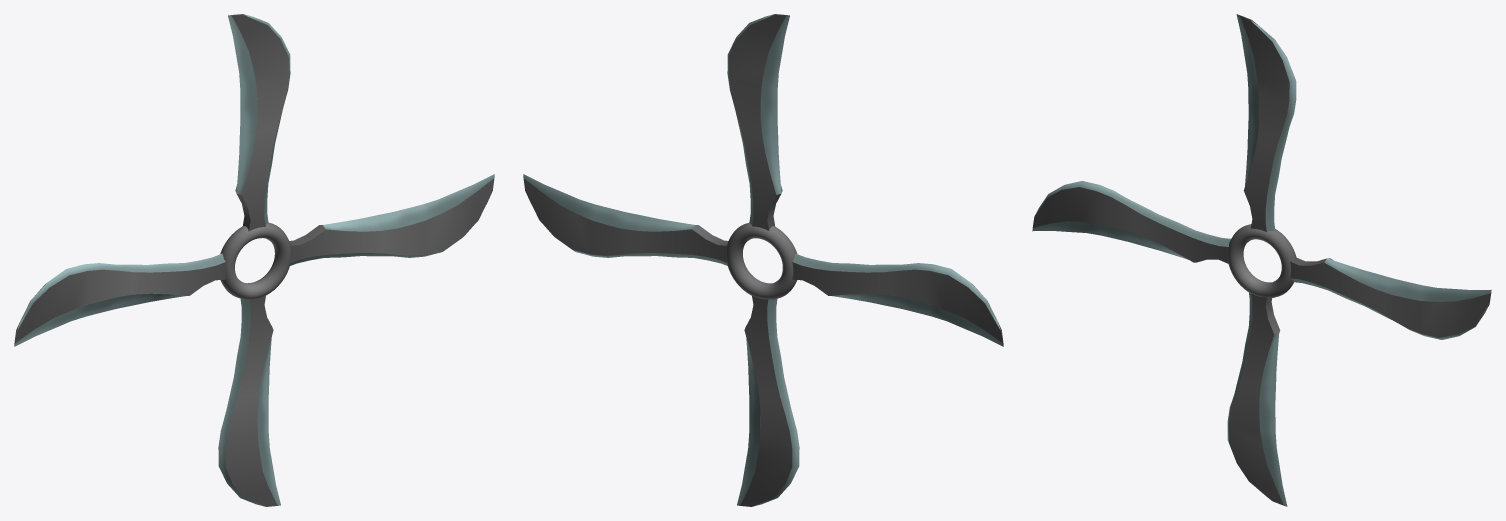
Rendered from Fuma Shuriken.fbx.
The picture shows the model from 3 angles, left to right: view 1: azimuth 30°, elevation 25°; view 2: azimuth 150°, elevation 25°; view 3: azimuth 330°, elevation 25°; orthographic projection. The views are drawn at different scales.
Visible parts, largest first — view 1: Cube.002, Cube.003, Cube, Cube.001, Torus.002; view 2: Cube.002, Cube.003, Cube, Cube.001, Torus.002; view 3: Cube.003, Cube, Cube.001, Cube.002, Torus.002.
Boxes of the visible parts, left/top/right/bottom form: Cube.002: left=14, top=253, right=225, bottom=346; Cube.003: left=228, top=14, right=290, bottom=231; Cube: left=289, top=174, right=494, bottom=265; Cube.001: left=218, top=295, right=280, bottom=506; Torus.002: left=220, top=222, right=291, bottom=299; Cube.002: left=792, top=253, right=1003, bottom=346; Cube.003: left=727, top=14, right=789, bottom=230; Cube: left=523, top=174, right=728, bottom=265; Cube.001: left=737, top=295, right=799, bottom=506; Torus.002: left=726, top=222, right=797, bottom=299; Cube.003: left=1236, top=14, right=1296, bottom=232; Cube: left=1290, top=258, right=1491, bottom=339; Cube.001: left=1227, top=292, right=1287, bottom=506; Cube.002: left=1032, top=181, right=1230, bottom=263; Torus.002: left=1228, top=224, right=1296, bottom=298.
Size of the model in its own units: 1201 by 1201 by 39.69.
Materials: 2 (2 with a texture image).
